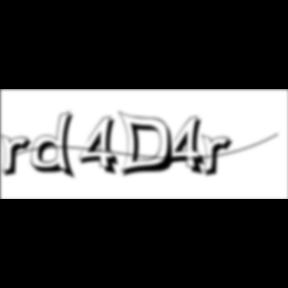4: (164, 115, 212, 179), (79, 115, 126, 179)
D: (118, 110, 180, 180)
d: (31, 110, 81, 182)
r: (0, 134, 38, 180), (201, 134, 239, 180)
